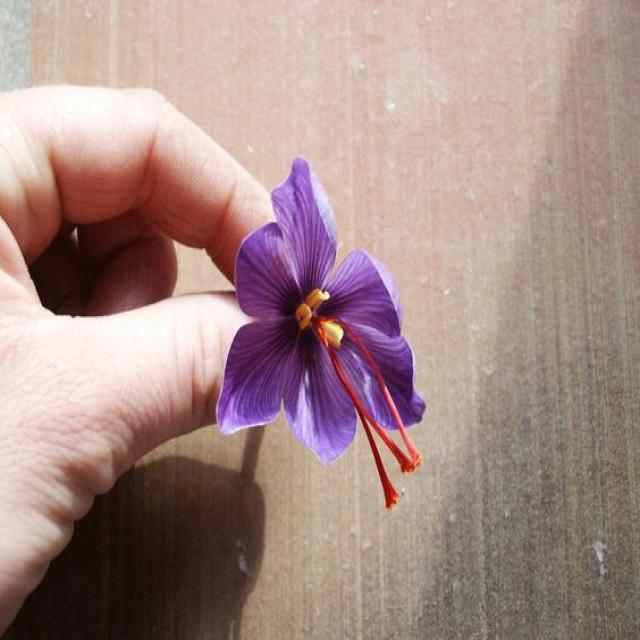Flower: (216, 158, 425, 456)
stigma: (317, 317, 427, 465), (320, 342, 419, 475), (327, 343, 402, 508)
